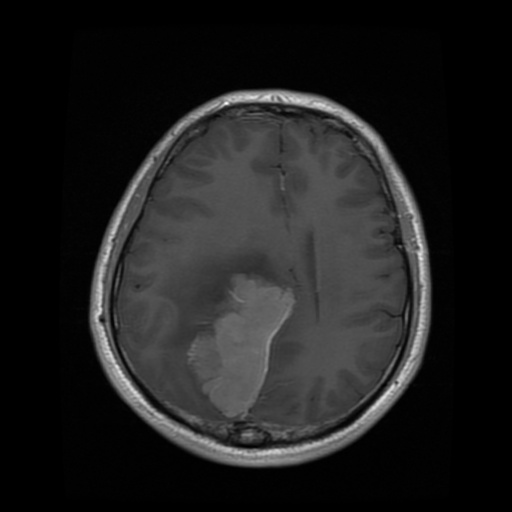meningioma: (186, 273, 290, 416)
